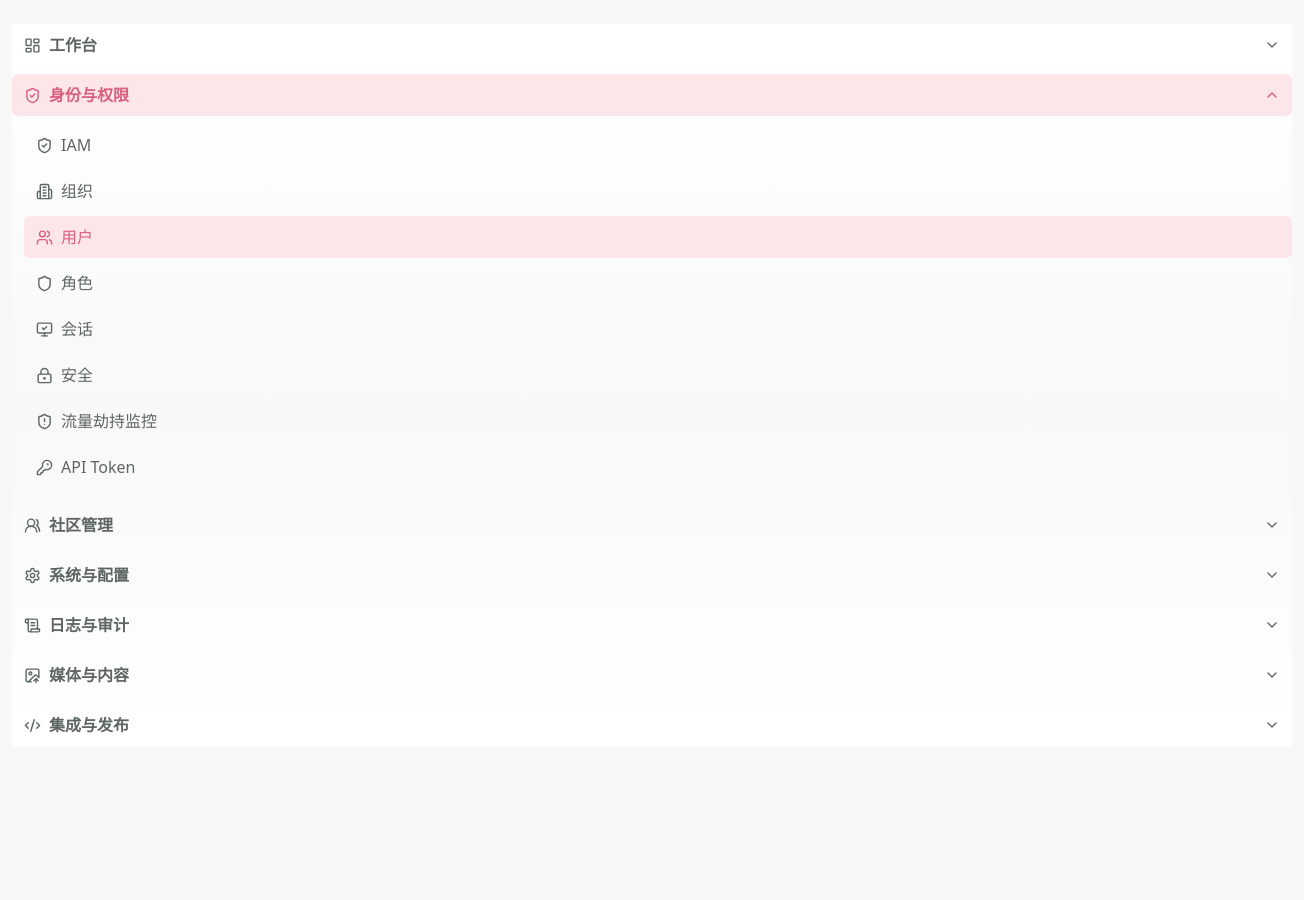
Scenario: AdminSidebarNav › keeps only one group open when another group is selected
The image size is (1304, 900).
What coordinates should you click on to do the following:
click the button "系统与配置"
I would click on:
 (89, 575)
Its box is [12,554,1292,596].
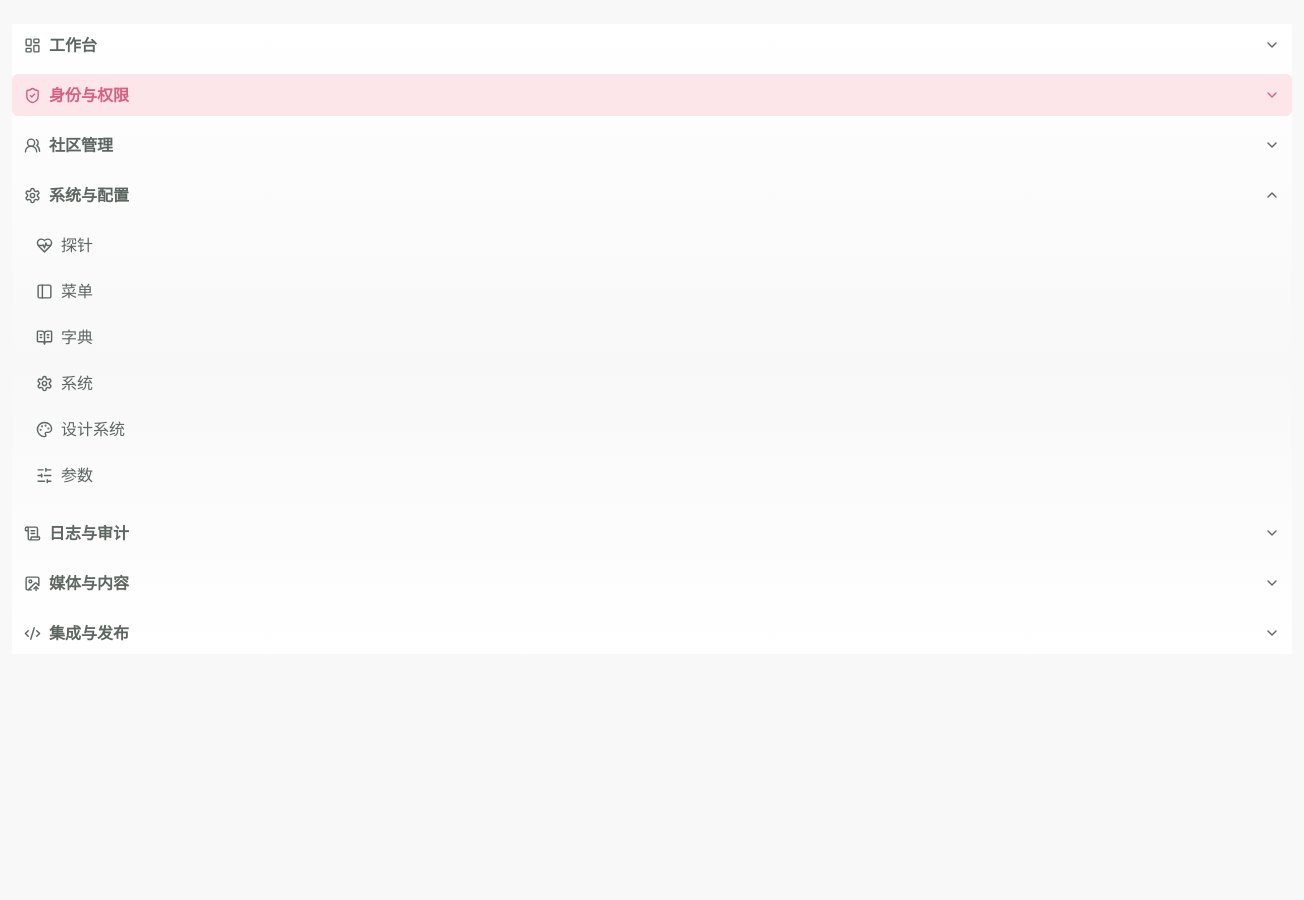
Expected: the button "系统与配置" is expanded, [12,174,1292,216]
Expected: the button "身份与权限" is collapsed, [12,74,1292,116]
Expected: the link "系统" is shown, [36,372,93,394]
